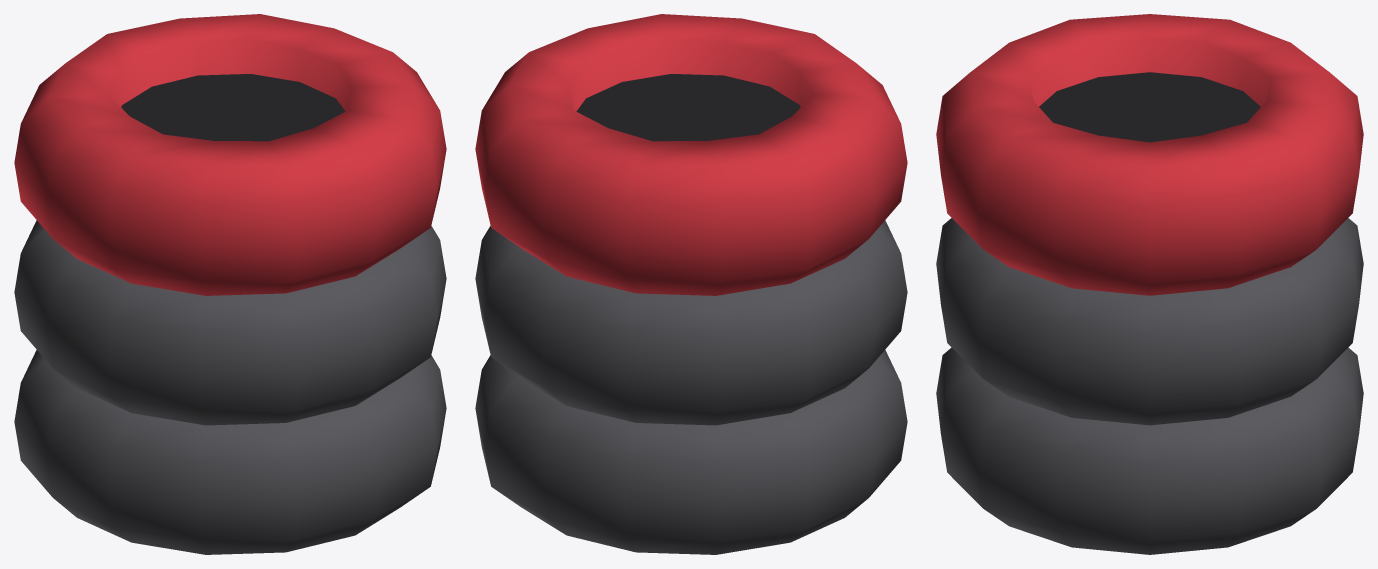
Rendered from pneus_vermelho.glb.
The picture shows the model from 3 angles, left to right: view 1: azimuth 30°, elevation 25°; view 2: azimuth 150°, elevation 25°; view 3: azimuth 270°, elevation 25°; orthographic projection.
Visible parts, largest first — view 1: borracha, pintura, furo; view 2: borracha, pintura, furo; view 3: borracha, pintura, furo.
Part boxes in pixels (left/top/right/bottom): borracha: left=14, top=220, right=446, bottom=554; pintura: left=14, top=14, right=446, bottom=295; furo: left=121, top=74, right=345, bottom=141; borracha: left=475, top=220, right=907, bottom=554; pintura: left=475, top=14, right=907, bottom=295; furo: left=576, top=74, right=800, bottom=141; borracha: left=936, top=218, right=1363, bottom=554; pintura: left=936, top=14, right=1363, bottom=295; furo: left=1039, top=72, right=1260, bottom=142.
Size of the model in its own units: 1.46 by 1.44 by 1.44.
